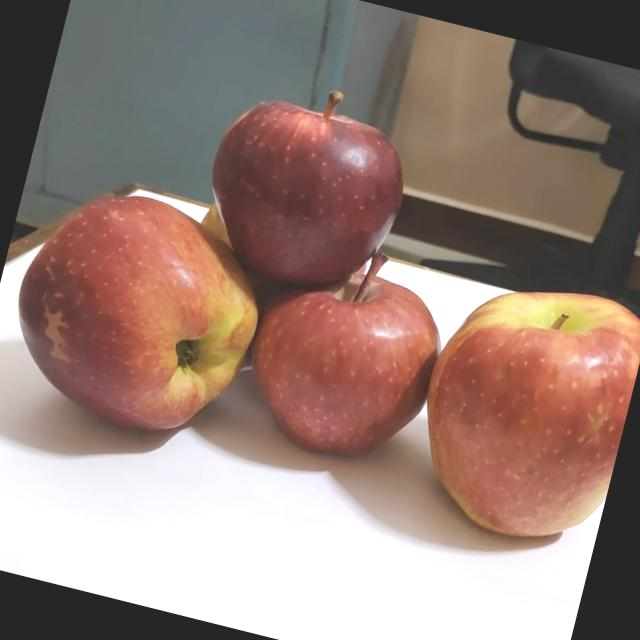apple: (0, 164, 293, 458), (400, 254, 640, 562), (189, 54, 439, 306), (231, 223, 468, 475), (190, 182, 264, 265)
